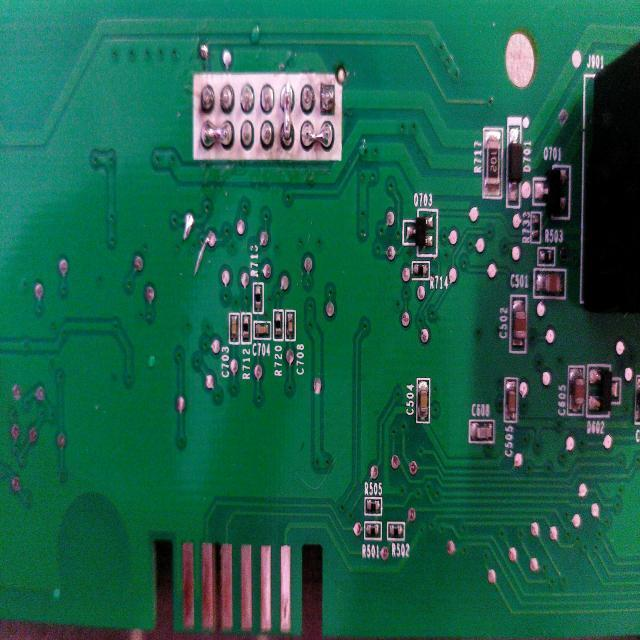Soldering shorted: (300, 119, 338, 160), (276, 78, 297, 151), (198, 114, 235, 154)
